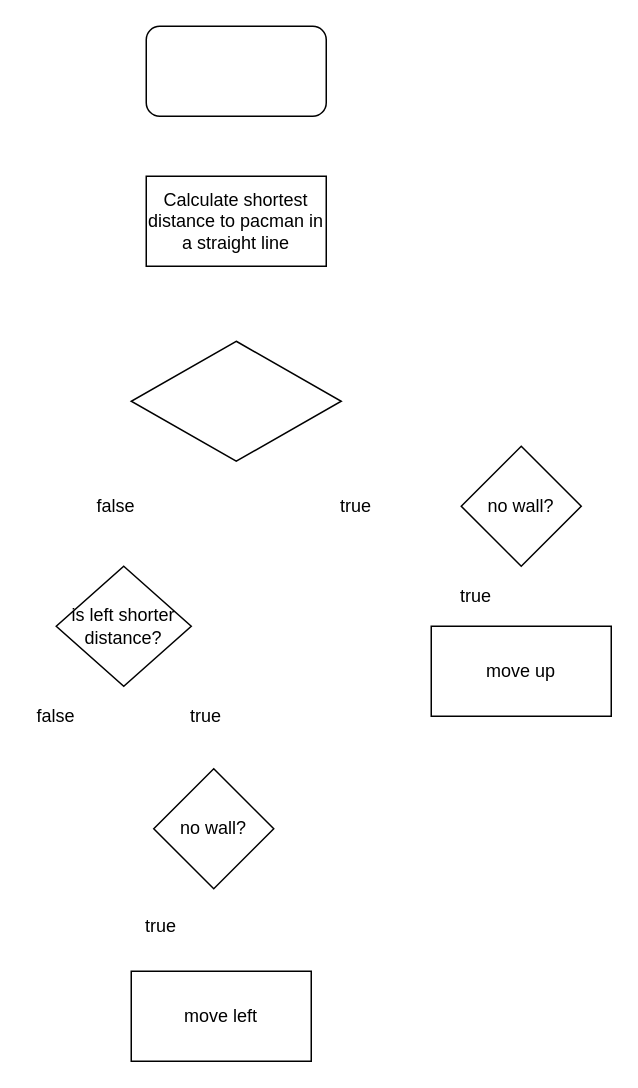
Image size: 638x1088. Some labels were removed from this diagram. Here are the shapes that lost their labels. From the top down, the centre of each, then its label:
At pixel 235 70: "Start ghost".
At pixel 235 400: "is upper shorter distance?".
